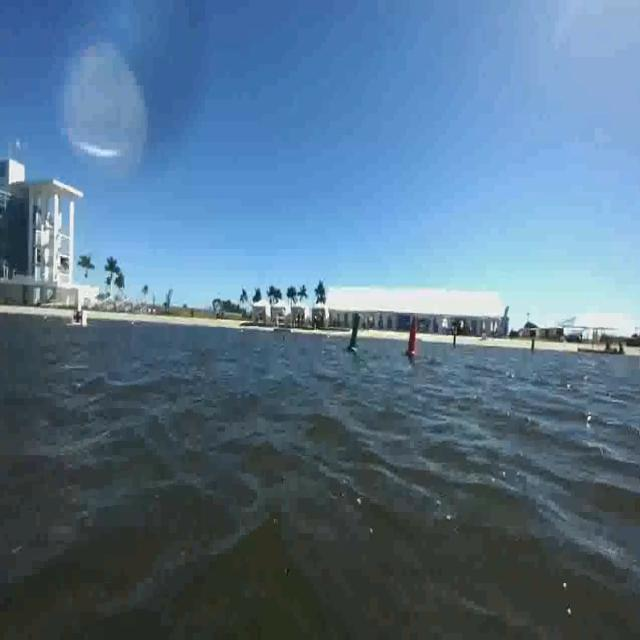green-column-buoy: (347, 300, 362, 358)
red-column-buoy: (406, 318, 422, 360)
